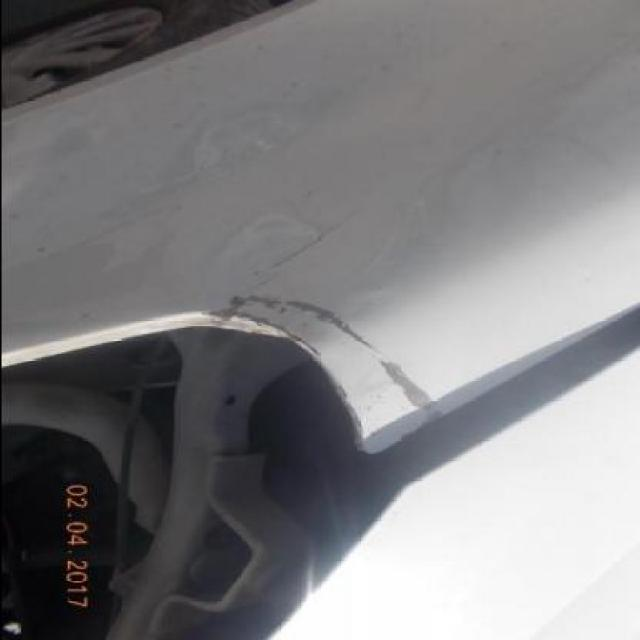damage: (190, 305, 324, 357), (282, 299, 378, 355), (376, 351, 447, 423), (223, 290, 286, 322)
